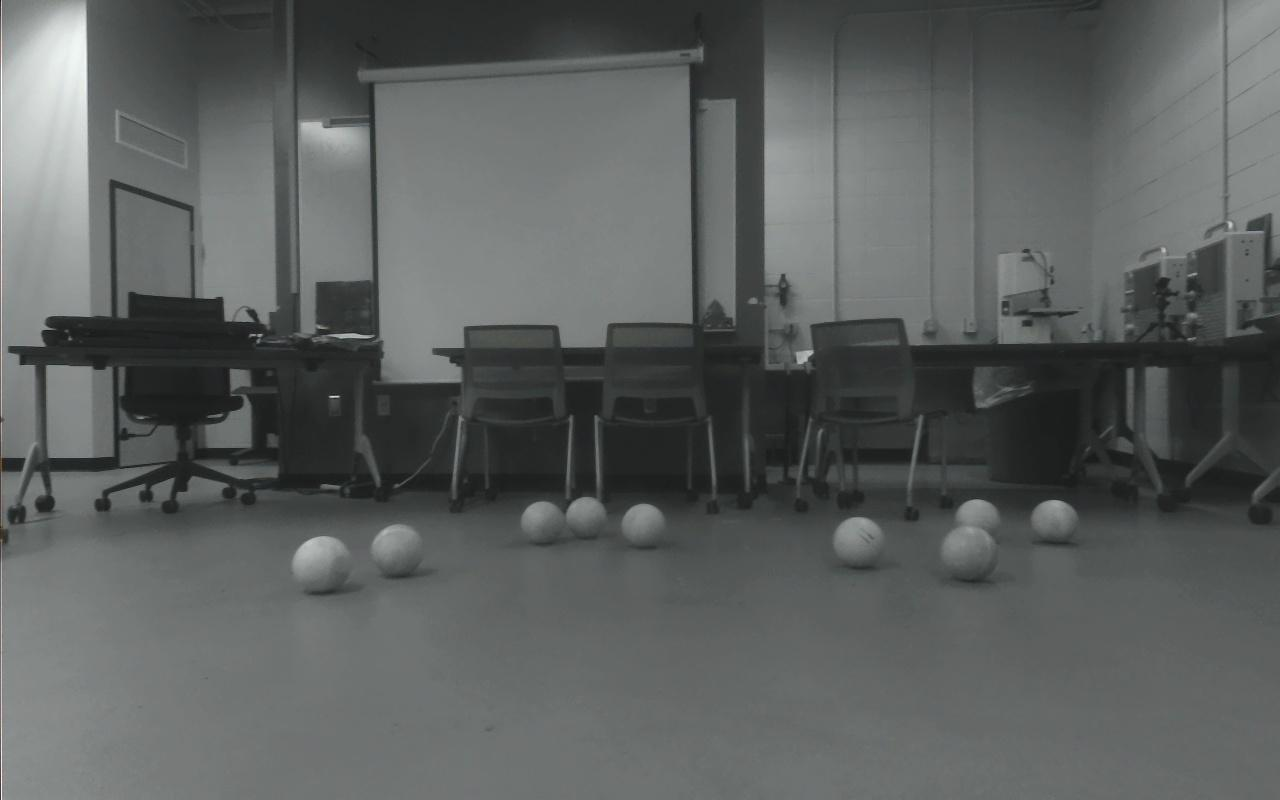Fuel: (293, 535, 351, 594), (941, 525, 998, 581), (371, 524, 424, 577), (833, 517, 884, 568), (1030, 500, 1079, 544), (621, 503, 666, 547), (954, 499, 1001, 540), (522, 500, 564, 545), (566, 496, 607, 538)
